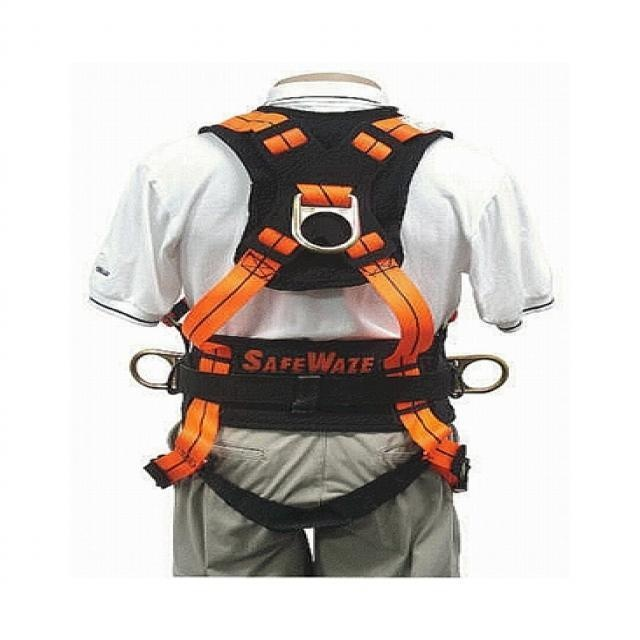Arnes_seguridad: (175, 103, 462, 497)
